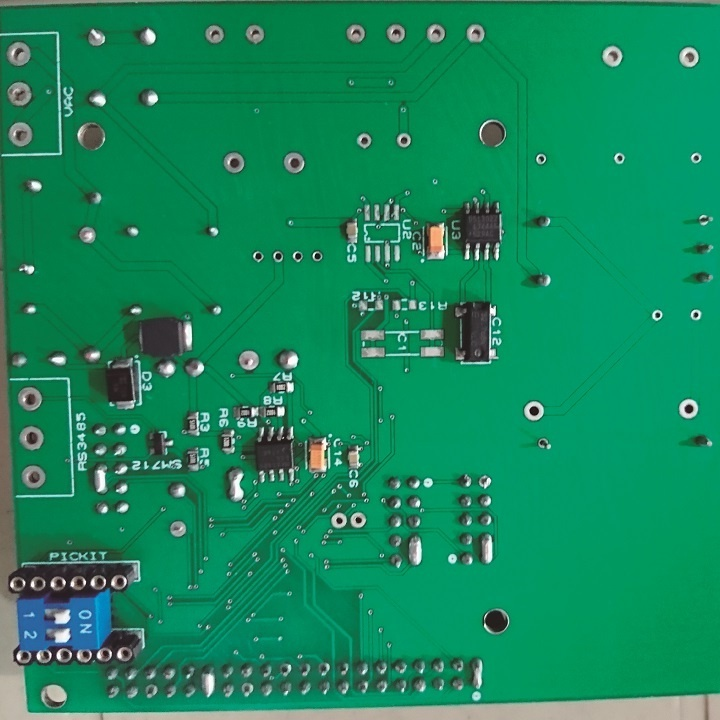F: (4, 38, 35, 69), (6, 81, 34, 108), (19, 425, 45, 454), (21, 461, 46, 491), (6, 120, 33, 147), (17, 387, 44, 412), (599, 43, 625, 68), (281, 150, 307, 175), (81, 24, 106, 49), (679, 46, 703, 72), (221, 150, 247, 174), (242, 22, 266, 46), (205, 23, 227, 49), (237, 346, 259, 372), (424, 21, 446, 46), (463, 20, 484, 46), (385, 22, 407, 46), (679, 395, 700, 420), (524, 400, 546, 423), (168, 518, 189, 541), (342, 24, 367, 43), (77, 223, 97, 244), (330, 509, 348, 529), (697, 212, 715, 231), (350, 509, 367, 529), (536, 435, 554, 453), (477, 473, 493, 493), (356, 131, 373, 149), (141, 683, 159, 700), (238, 680, 253, 700), (317, 660, 333, 677), (397, 132, 412, 149), (279, 662, 293, 678), (690, 151, 704, 166), (310, 249, 323, 265), (690, 306, 702, 323), (613, 151, 627, 165), (291, 249, 304, 263), (535, 154, 549, 166), (251, 249, 263, 263), (651, 309, 662, 323), (273, 250, 284, 263)
P: (224, 465, 246, 506), (476, 529, 495, 568), (405, 533, 425, 570), (197, 663, 216, 700), (91, 462, 110, 497), (471, 655, 485, 694)
